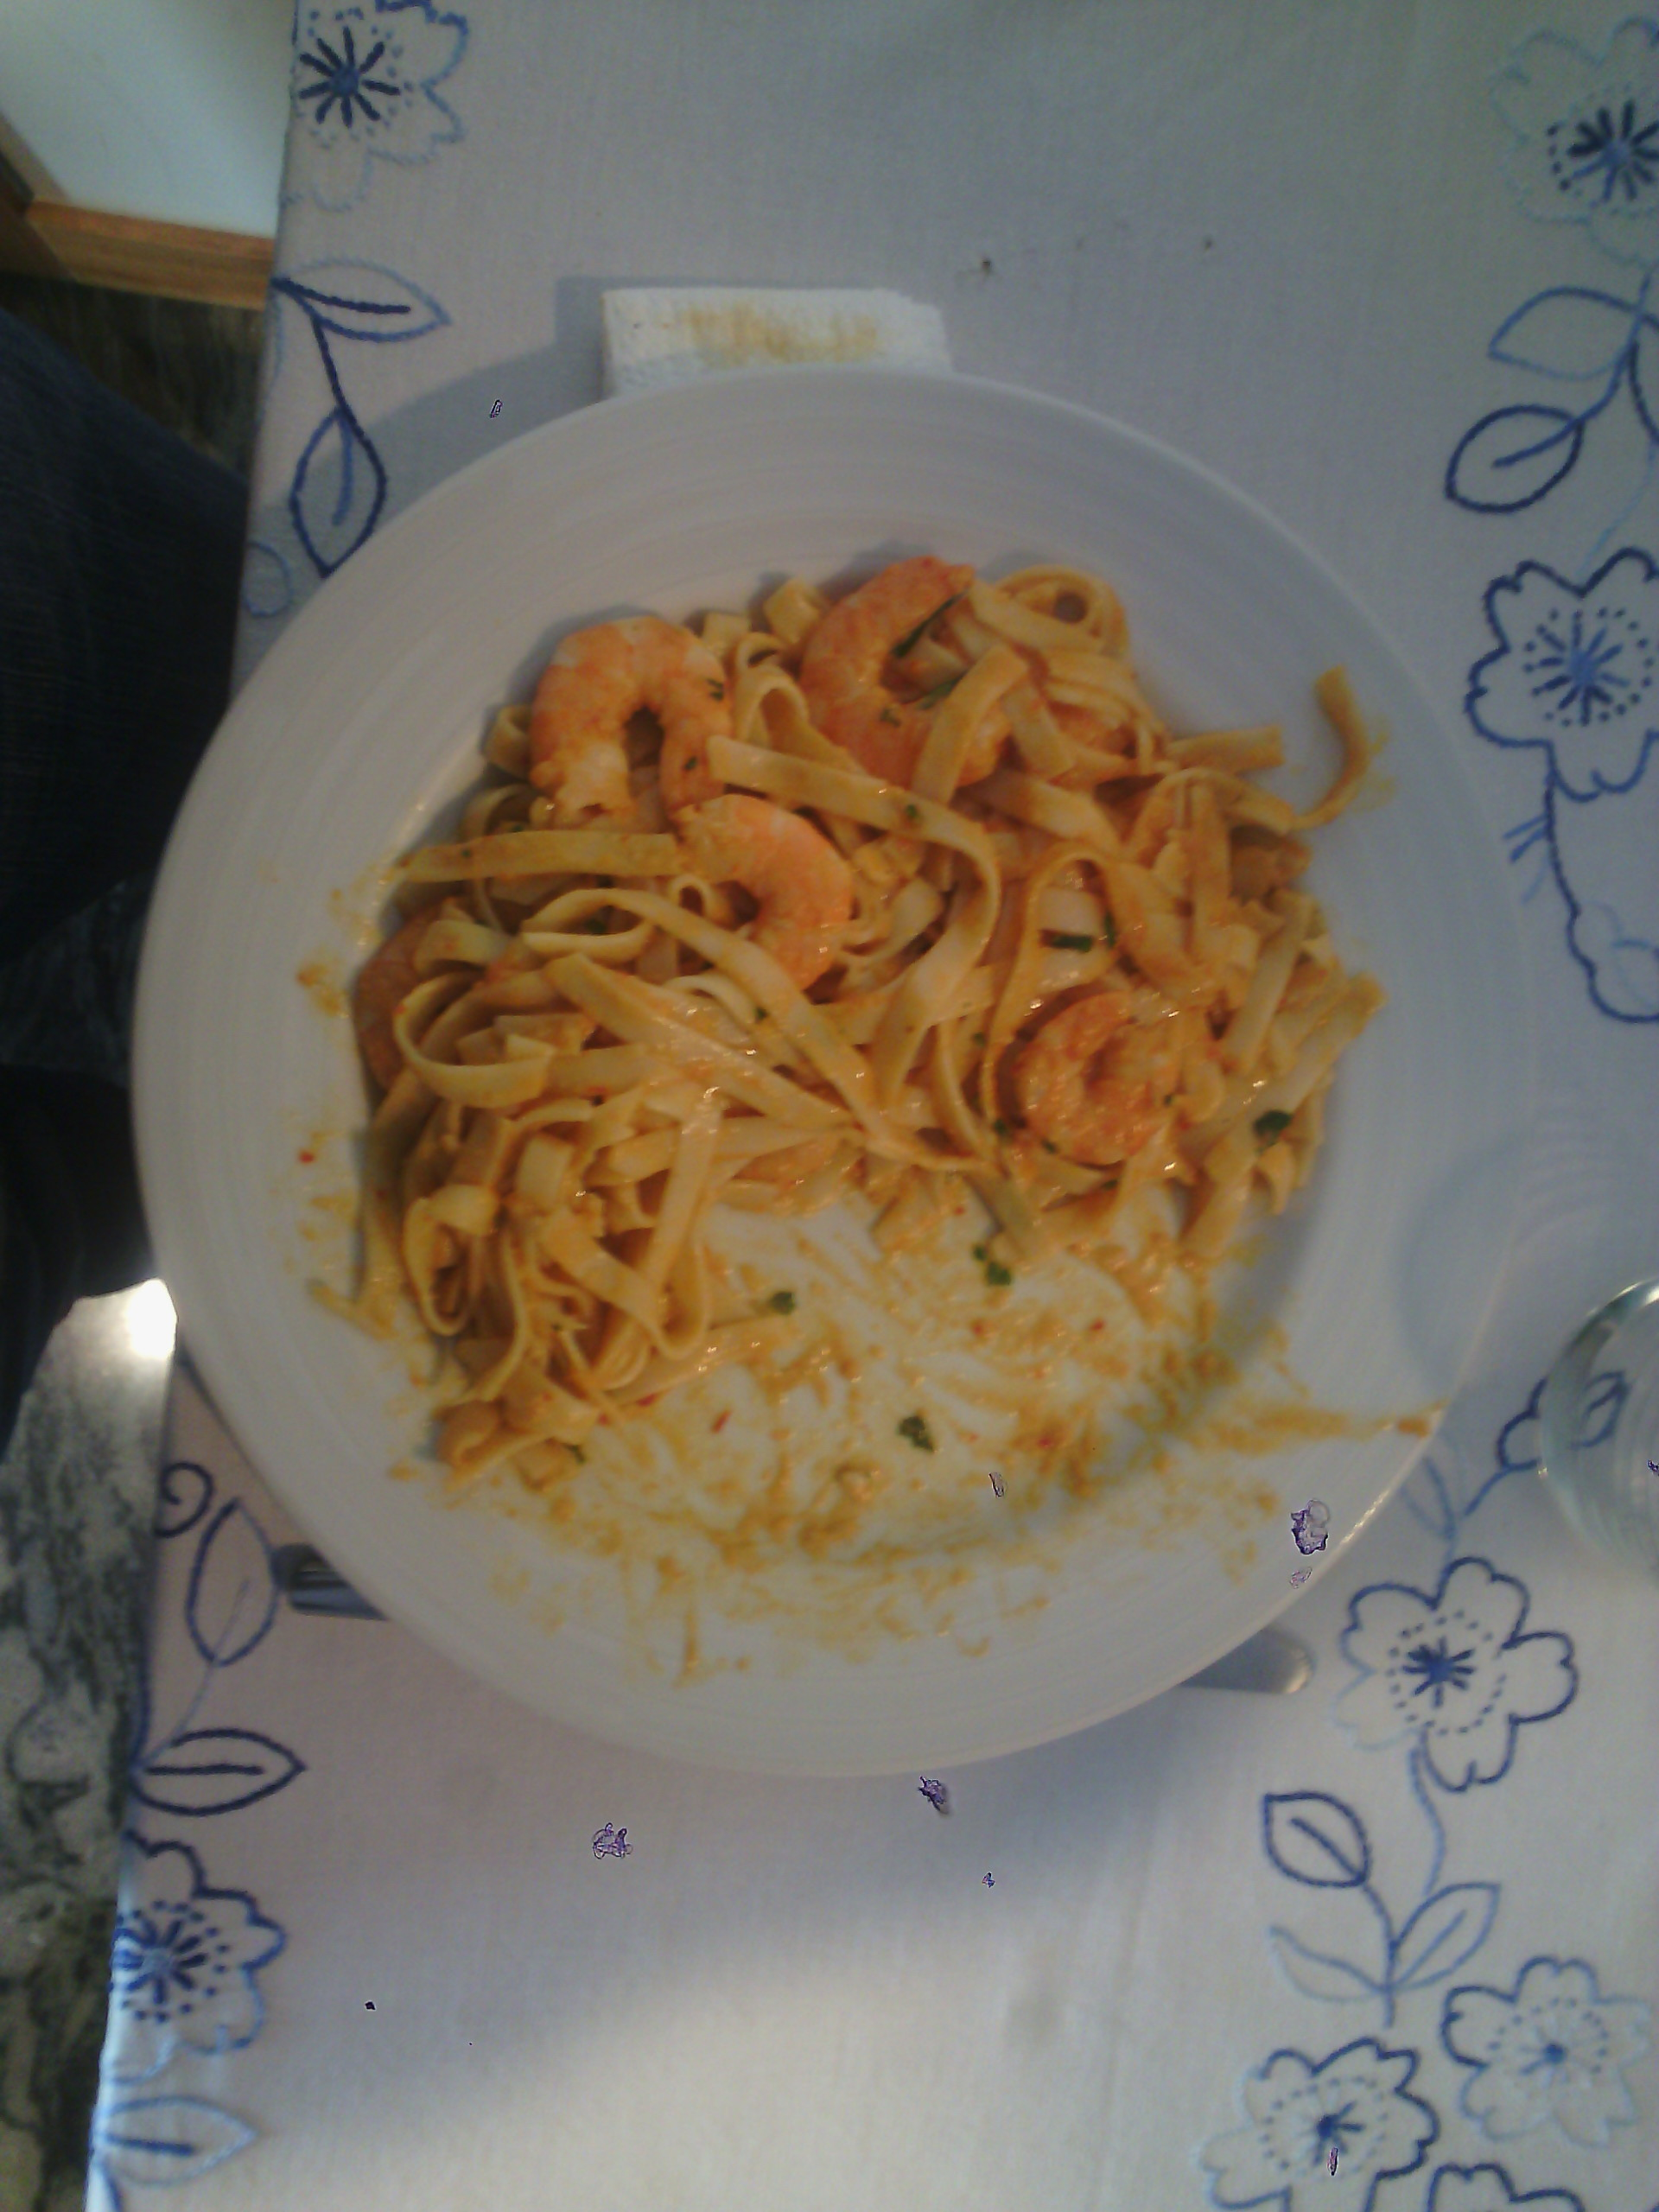61-80: (162, 362, 1537, 1791)
